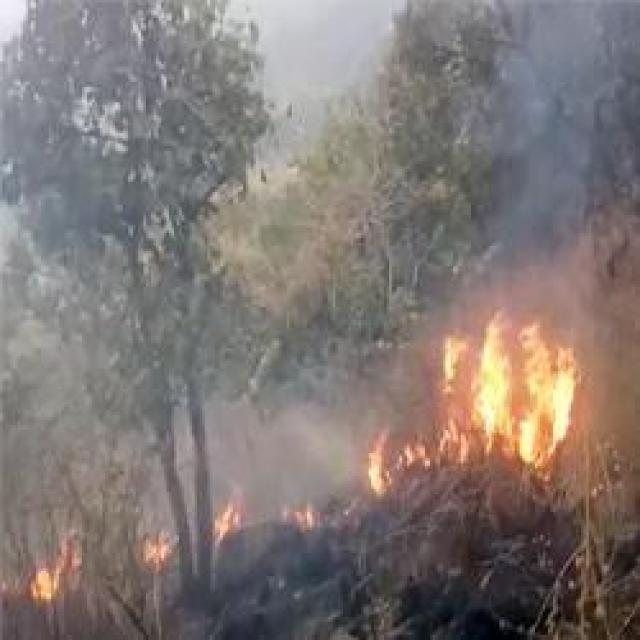Fire: (435, 321, 580, 471), (214, 499, 324, 539), (364, 432, 428, 500), (26, 534, 86, 606), (138, 531, 176, 570)
Smoke: (3, 314, 350, 494), (457, 0, 640, 302)
